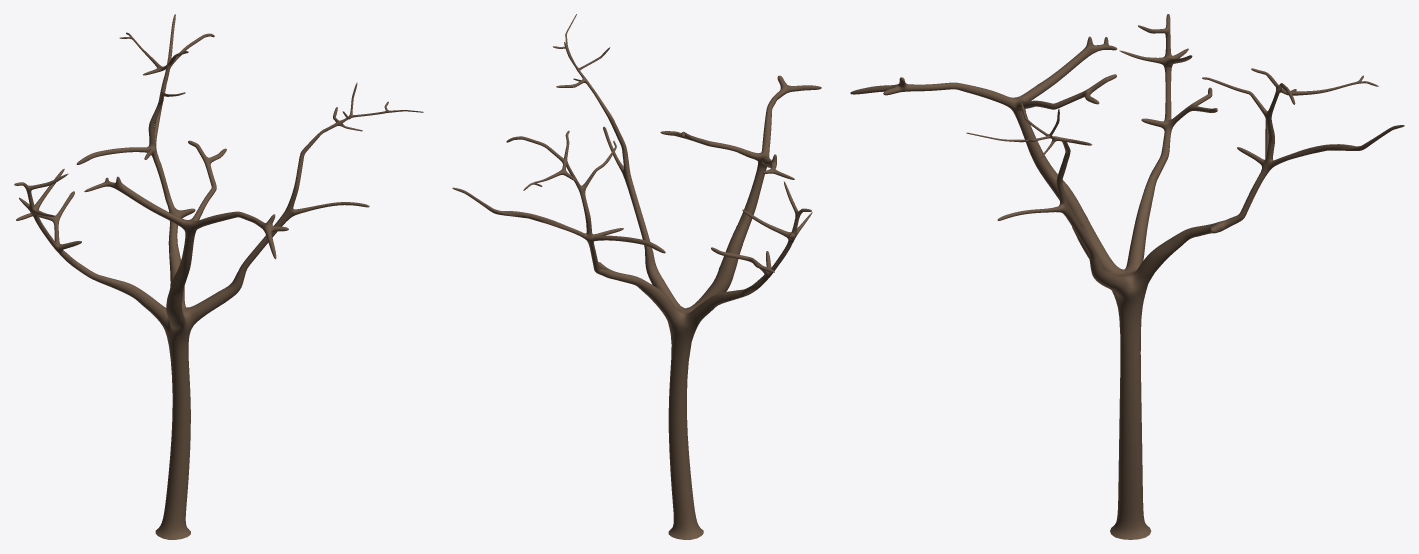
The model's file is tree_one.fbx.
3 renders of one model, left to right at view 1: azimuth 30°, elevation 25°; view 2: azimuth 150°, elevation 25°; view 3: azimuth 270°, elevation 25°, orthographic. The views are drawn at different scales.
Parts seen in each view (by area): view 1: Cube; view 2: Cube; view 3: Cube.
Part boxes in pixels (x1=…): Cube: x1=14, y1=14, x2=423, y2=539; Cube: x1=452, y1=14, x2=821, y2=539; Cube: x1=850, y1=14, x2=1404, y2=539.
Size of the model in its own units: 432 by 555 by 546.
